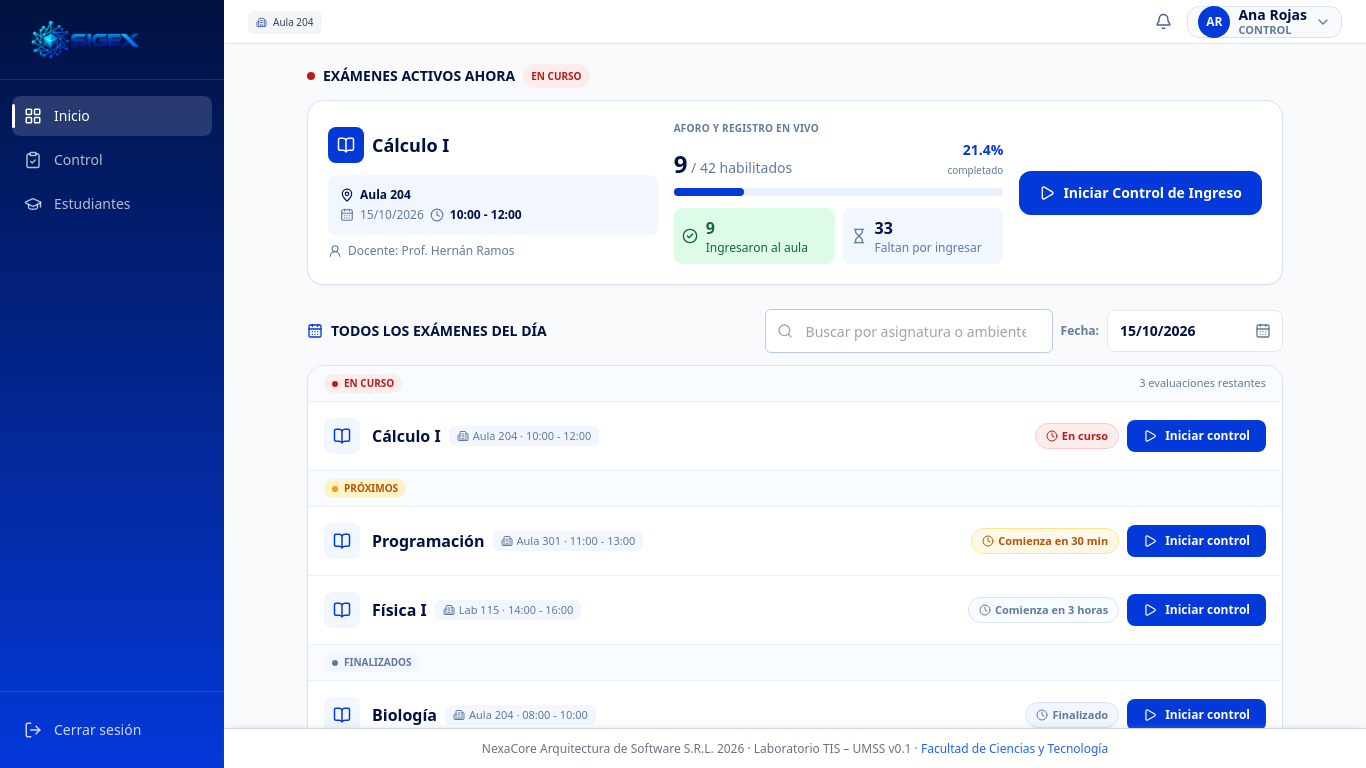
ControlInicioPage › agrupa los exámenes del día en EN CURSO, PRÓXIMOS y FINALIZADOS con su estado y las restantes
Expected: the text "21.4%" is shown, [947,140,1003,180]
Expected: the text "3 evaluaciones restantes" is shown, [1139,375,1266,392]
Step 1. Replace the text in the field named "Fecha de los exámenes" with "16102026" → point(1195, 331), box [1107,310,1283,352]
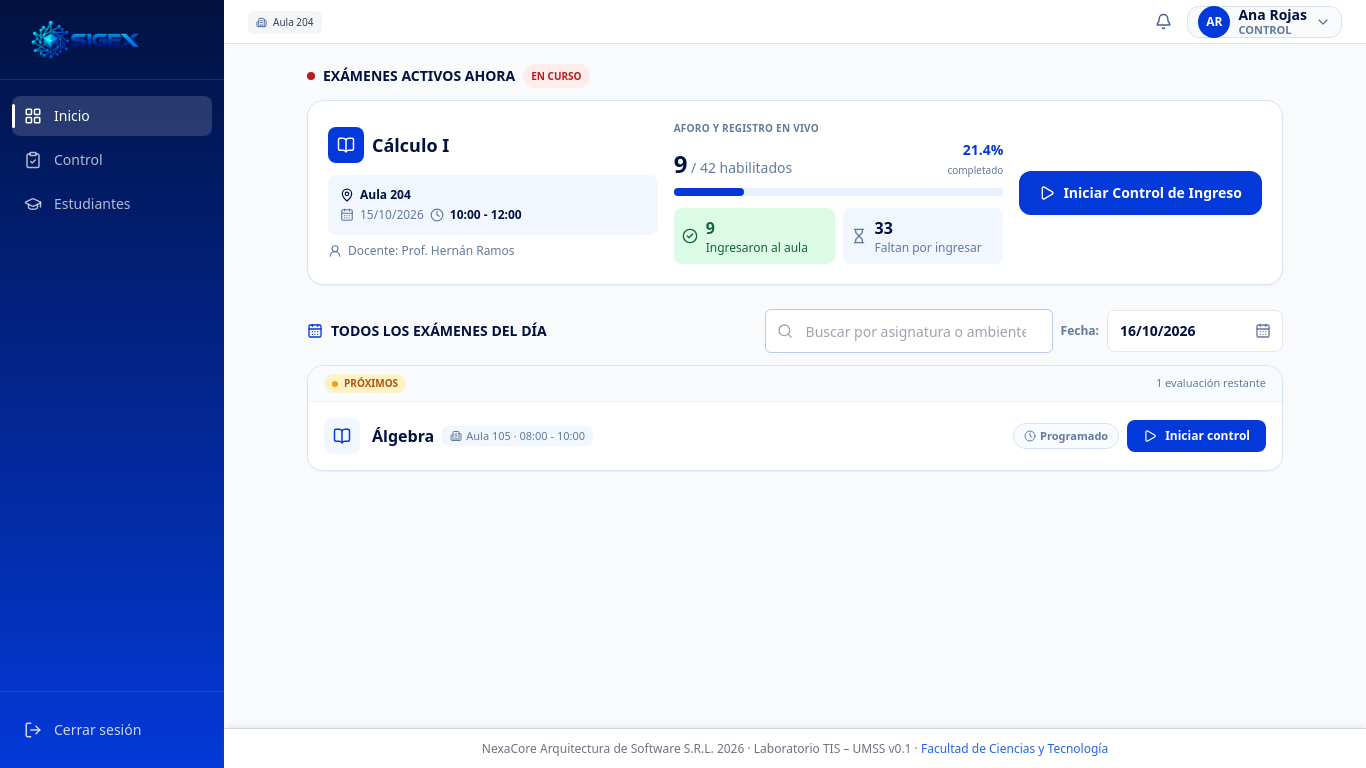
Expected: the text "1 evaluación restante" is shown, [1156,375,1266,392]
